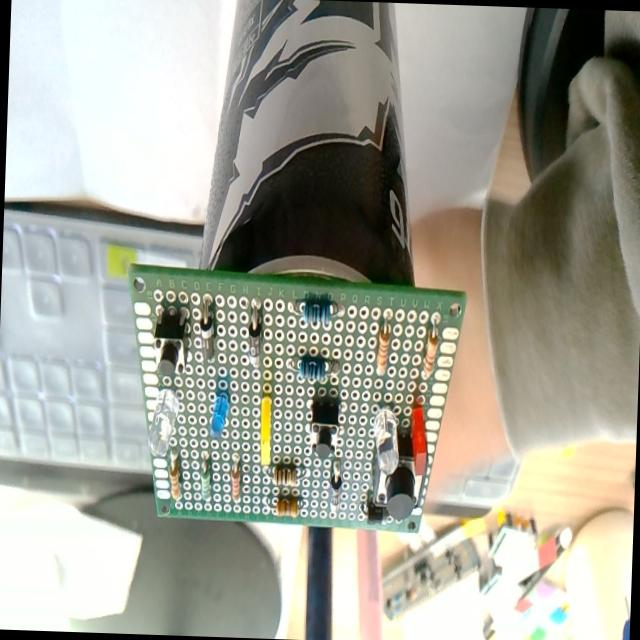diode: (198, 297, 216, 363), (326, 457, 344, 518), (247, 302, 263, 368), (354, 503, 392, 527)
led: (368, 405, 401, 475), (406, 406, 432, 476), (258, 389, 273, 468), (208, 390, 230, 441)
resistor: (148, 386, 180, 459), (420, 314, 440, 381), (197, 453, 216, 505), (375, 314, 391, 374), (300, 300, 332, 328), (296, 356, 326, 384), (168, 456, 182, 499), (273, 464, 297, 486), (274, 496, 298, 518), (230, 462, 242, 501)
switch: (370, 440, 425, 518), (154, 306, 189, 378), (306, 398, 342, 460)
